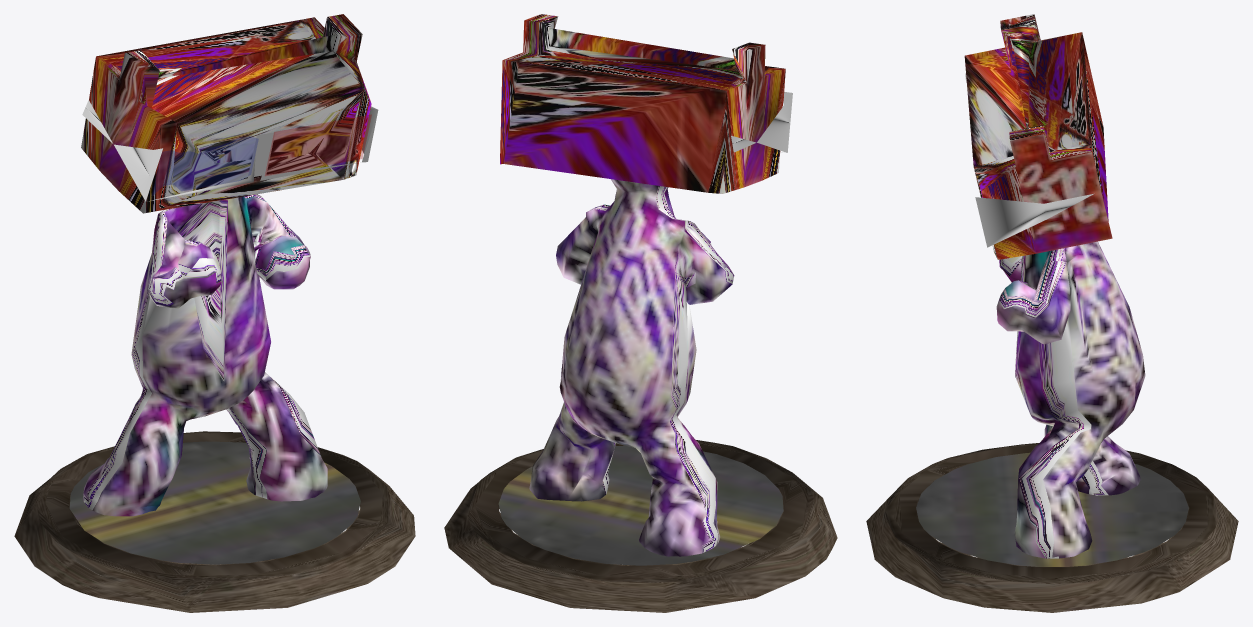
3 renders of one model, left to right at view 1: azimuth 30°, elevation 25°; view 2: azimuth 150°, elevation 25°; view 3: azimuth 270°, elevation 25°, orthographic. The views are drawn at different scales.
Bounding box in the file's own units: 1.45 × 2.02 × 1.43.
7 materials, 4 textured.
